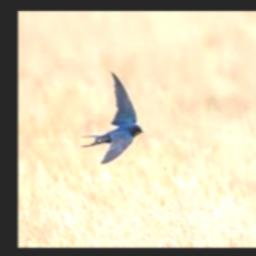Swallow: (82, 71, 143, 163)
